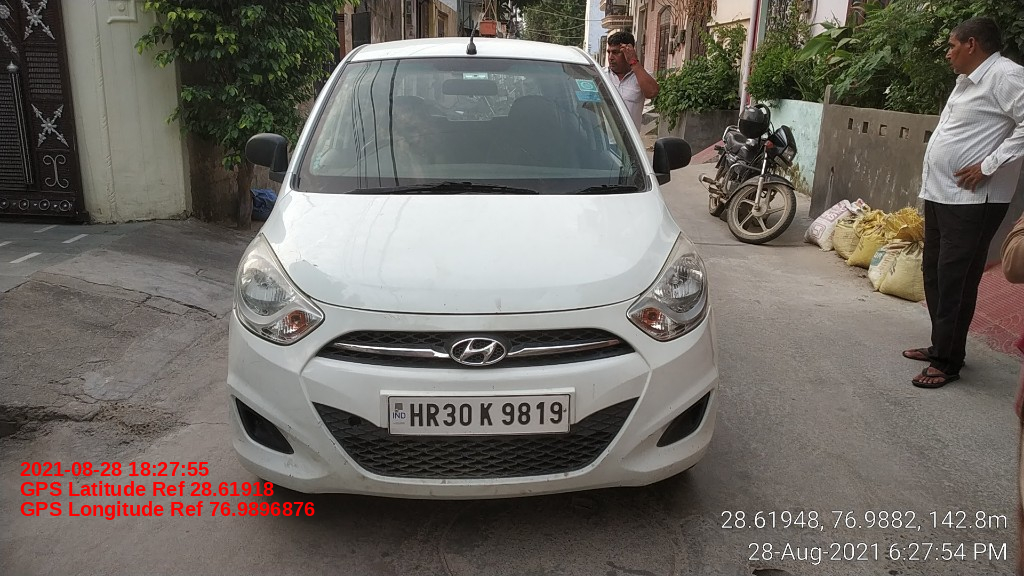Scratched: (313, 416, 348, 465), (489, 482, 547, 498), (281, 457, 304, 480), (356, 471, 374, 492), (641, 426, 662, 443), (281, 423, 300, 441), (588, 381, 602, 403), (425, 488, 441, 500), (600, 448, 615, 458), (436, 476, 451, 486), (560, 471, 572, 479)
